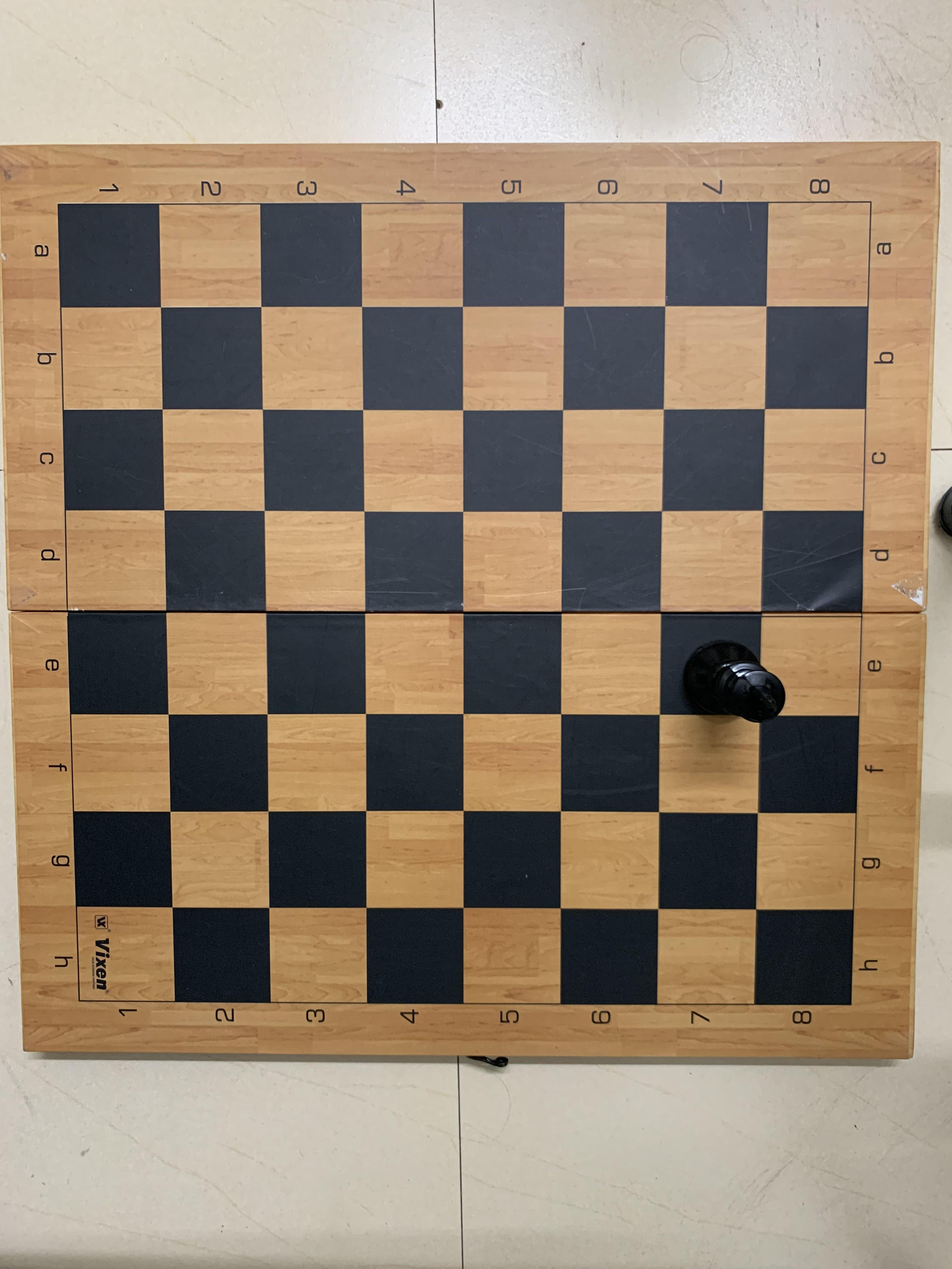black_king: (665, 619, 795, 735)
